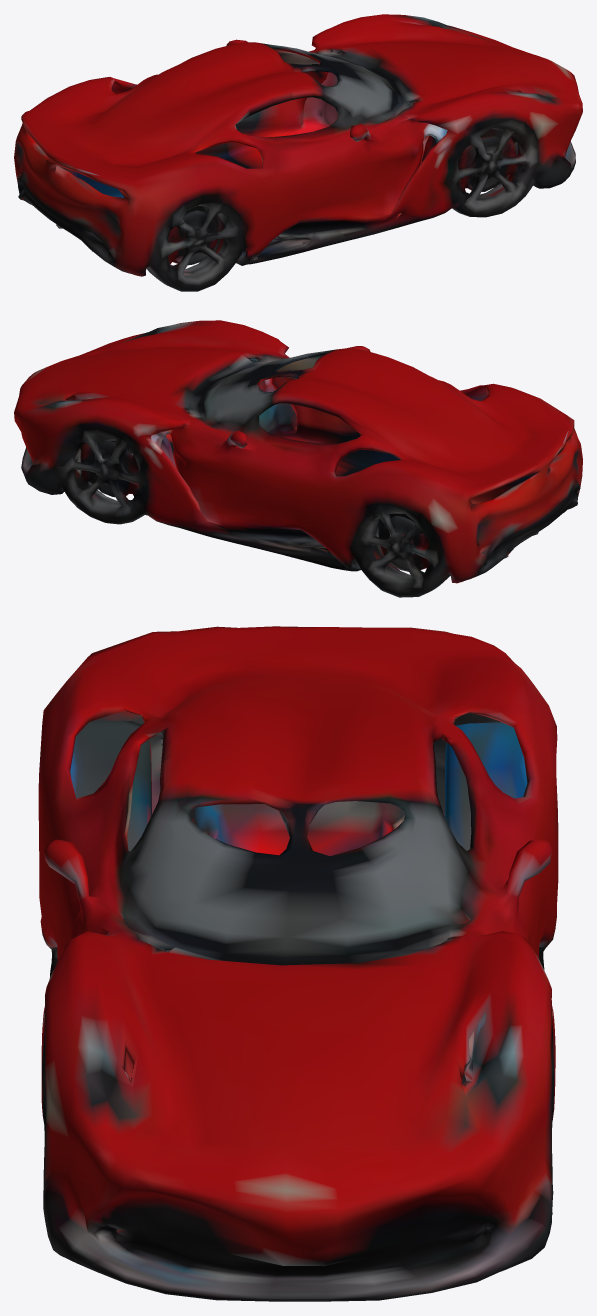
The model's file is 6448105-red-sports-car-10k.glb.
3 views of the same model, one above another, from view 1: azimuth 30°, elevation 25°; view 2: azimuth 150°, elevation 25°; view 3: azimuth 270°, elevation 25° (orthographic). The views are drawn at different scales.
Parts seen in each view (by area): view 1: Retopo_neural_node_f0c266a6-8abb-42bb-8d91-9e8c3058122f; view 2: Retopo_neural_node_f0c266a6-8abb-42bb-8d91-9e8c3058122f; view 3: Retopo_neural_node_f0c266a6-8abb-42bb-8d91-9e8c3058122f.
Part boxes in pixels (<box>): Retopo_neural_node_f0c266a6-8abb-42bb-8d91-9e8c3058122f: <box>14,14,582,291</box>; Retopo_neural_node_f0c266a6-8abb-42bb-8d91-9e8c3058122f: <box>14,320,582,597</box>; Retopo_neural_node_f0c266a6-8abb-42bb-8d91-9e8c3058122f: <box>38,626,558,1301</box>.
Bounding box in the file's own units: 0.9461 × 0.2585 × 0.4056.
